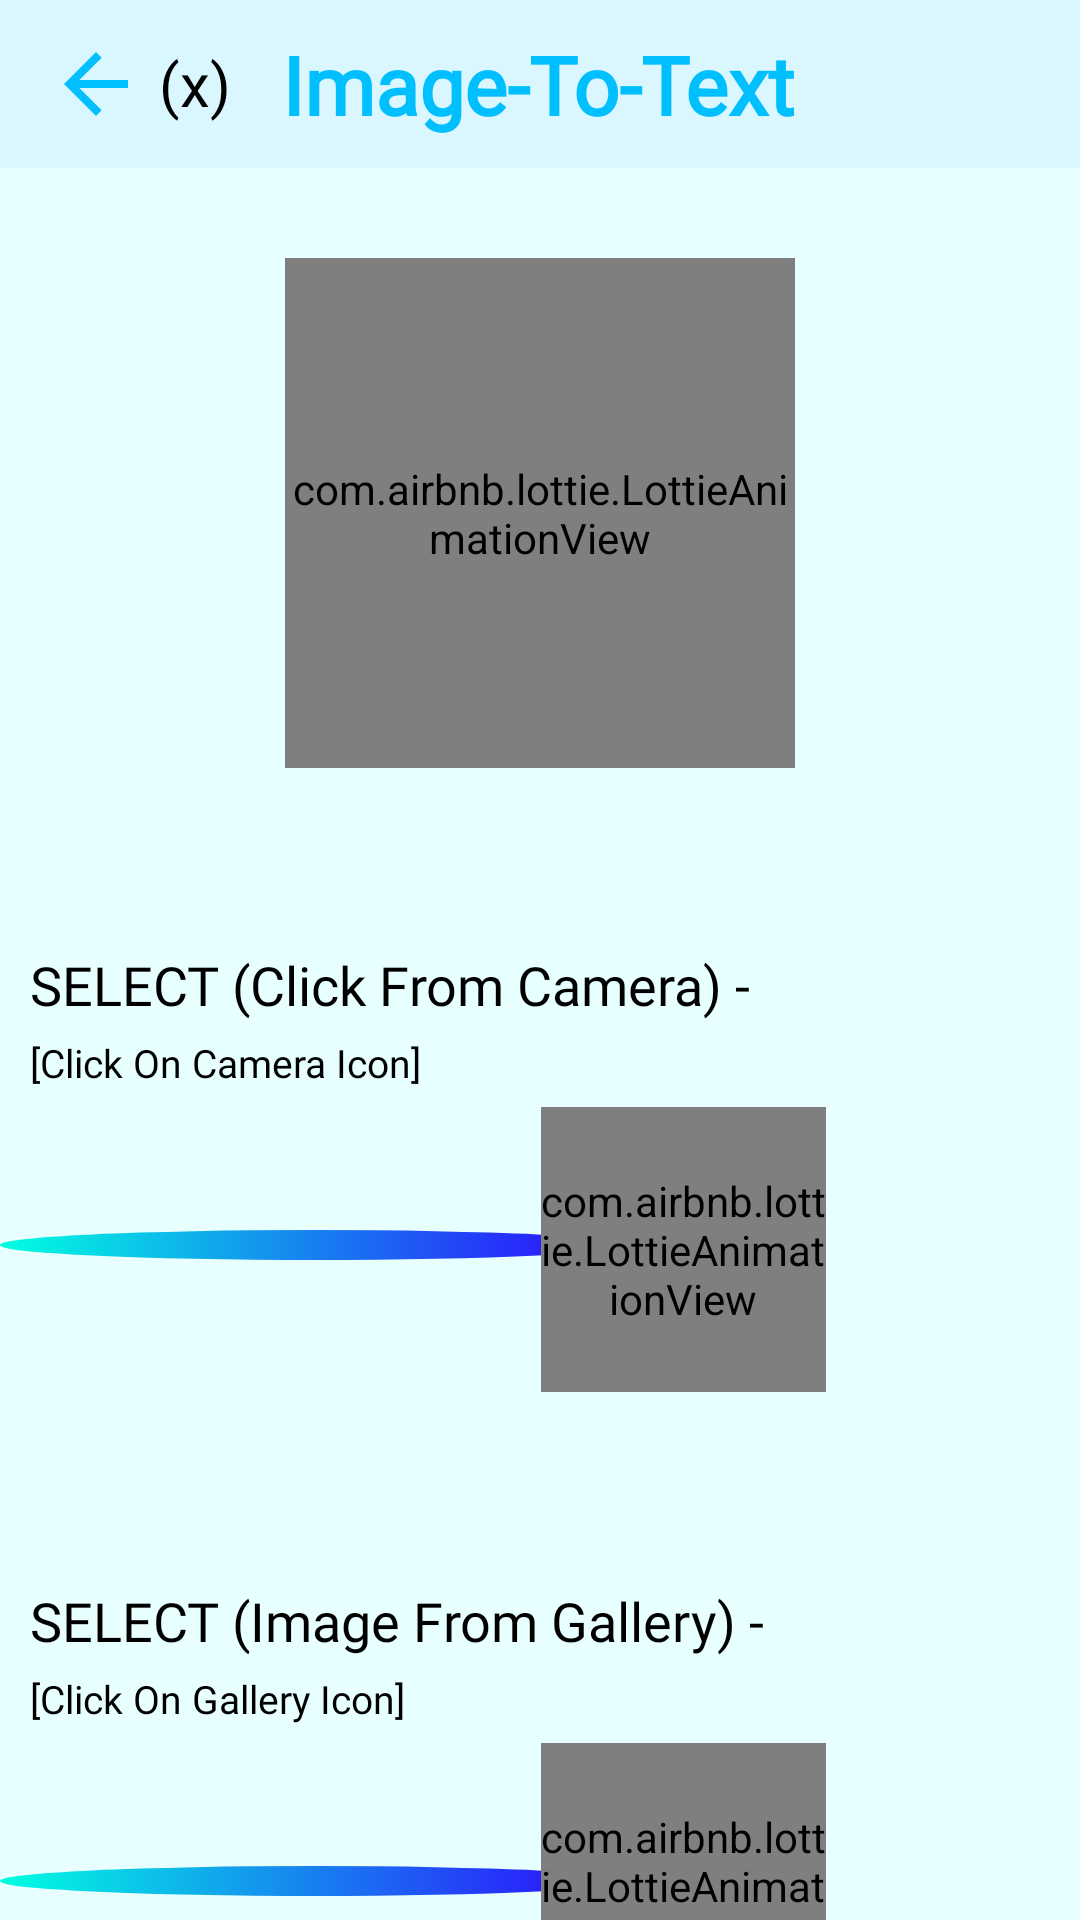

Icon bounding boxes for this 1080*1920 phone screenshot, format bbox=(x1, y1, x2, y2):
back arrow: bbox=(64, 52, 128, 116)
